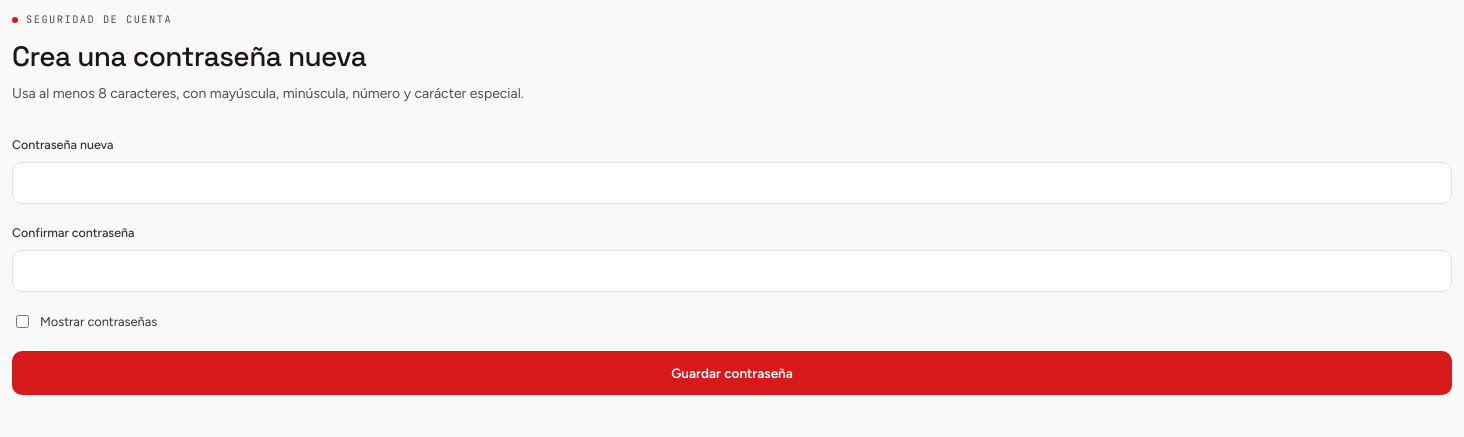
ResetPasswordPage › rejects a password without uppercase and explains the policy
Type "abc123!@#" into the password field labelled "Contraseña nueva" at (732, 183), box [12,162,1452,204]
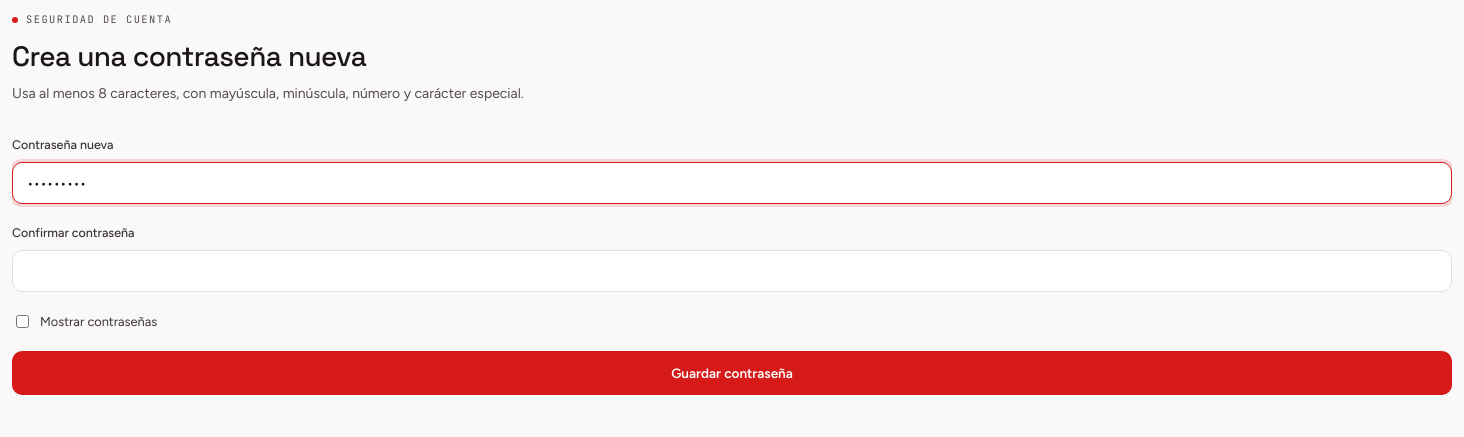
Type "abc123!@#" into the password field labelled "Confirmar contraseña" at (732, 271), box [12,250,1452,292]
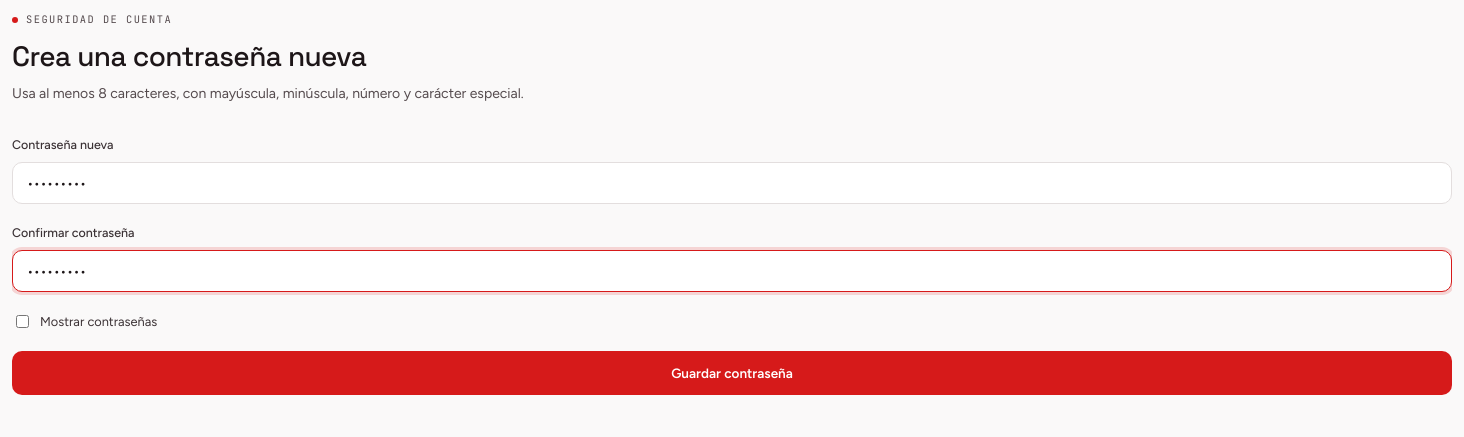
Click the button "Guardar contraseña" at (732, 373), box [12,351,1452,395]
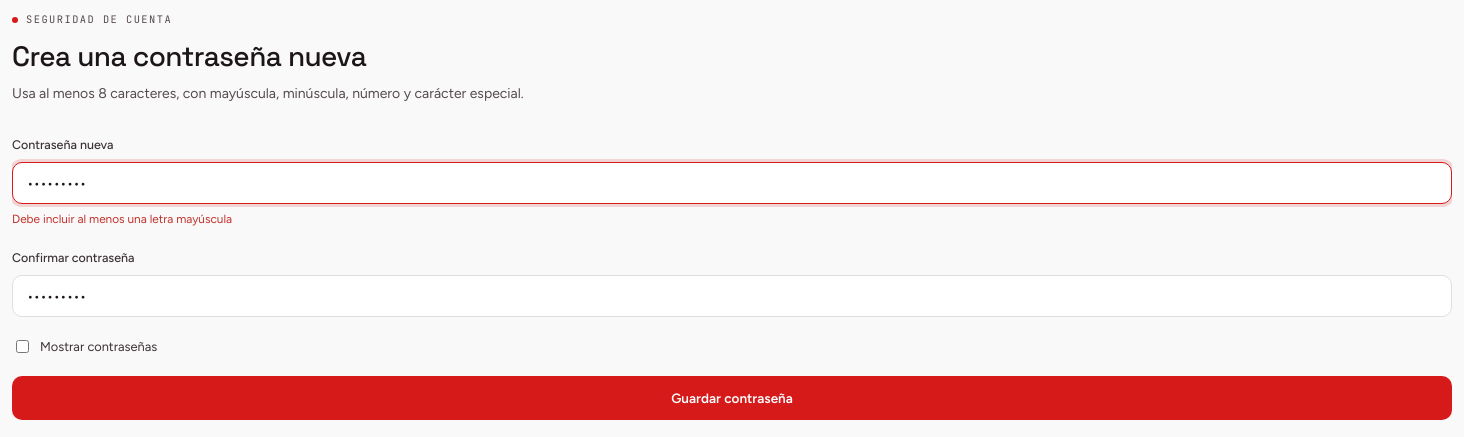
Result: the text "Debe incluir al menos una letra mayúscula" is shown at [12,212,232,226]
